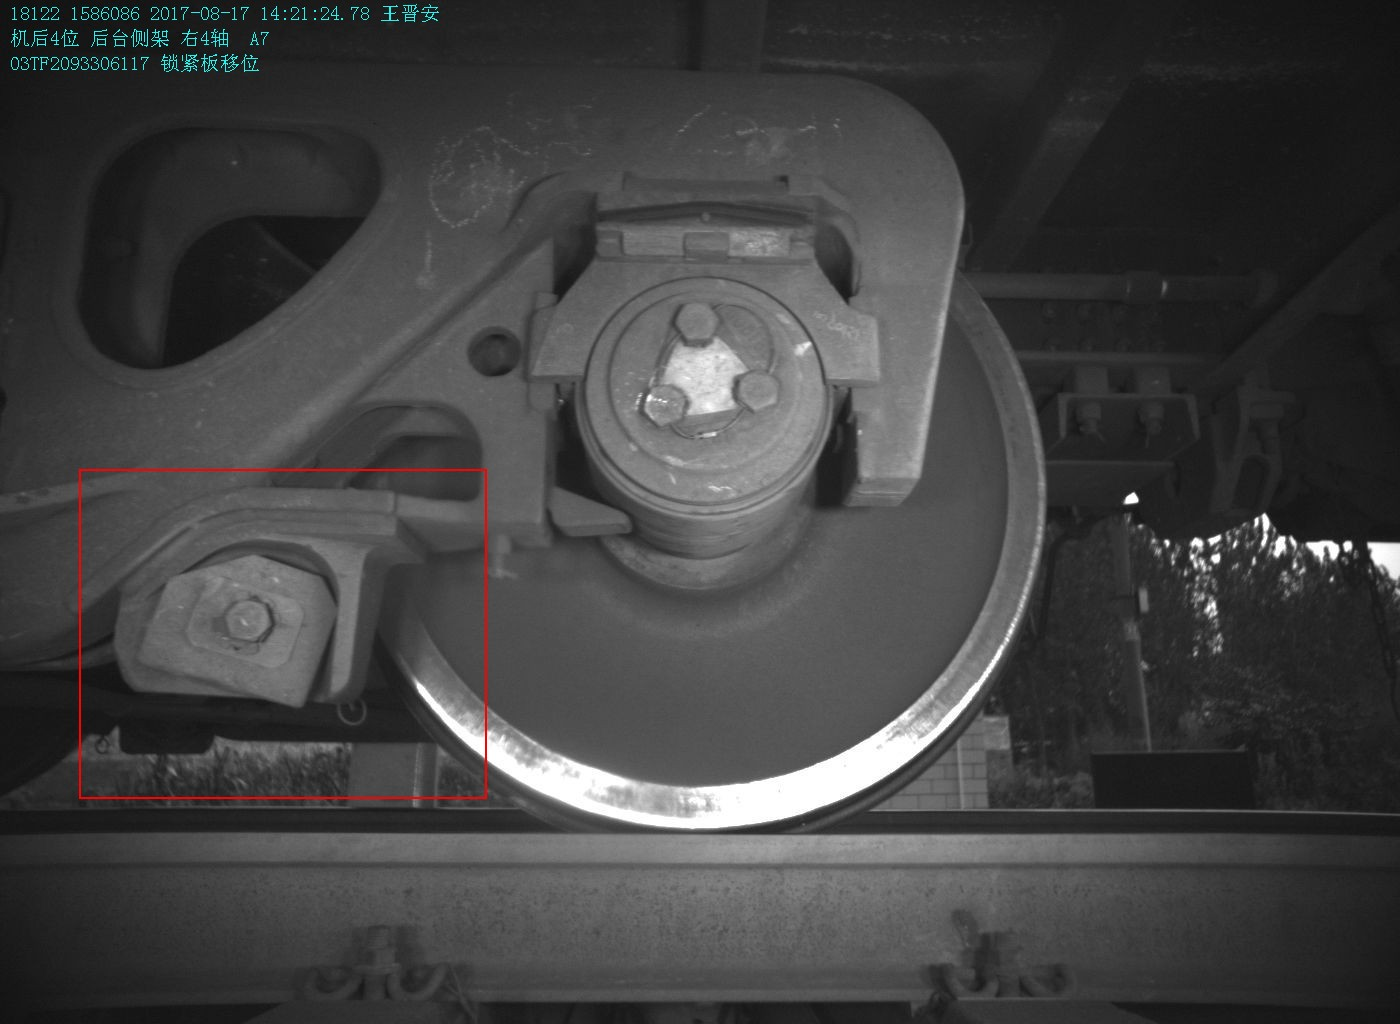Locking plate: (114, 525, 365, 707)
